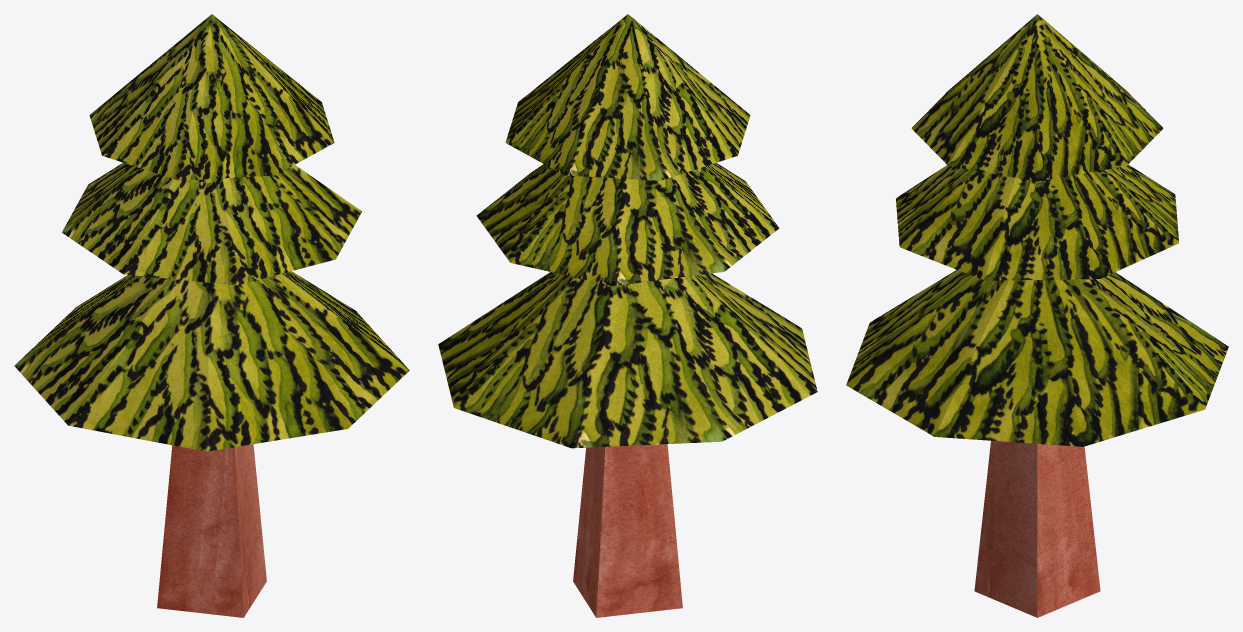
Rendered from tree2.glb.
3 views of the same model, side by side, from view 1: azimuth 30°, elevation 25°; view 2: azimuth 150°, elevation 25°; view 3: azimuth 270°, elevation 25° (orthographic).
Visible parts, largest first — view 1: Branches 3, Branches 2, Branches 1, Log; view 2: Branches 3, Branches 2, Branches 1, Log; view 3: Branches 3, Branches 2, Branches 1, Log.
Boxes of the visible parts, left/top/right/bottom form: Branches 3: left=14, top=271, right=409, bottom=451; Branches 2: left=62, top=162, right=361, bottom=285; Branches 1: left=89, top=14, right=334, bottom=180; Log: left=157, top=444, right=266, bottom=617; Branches 3: left=438, top=272, right=817, bottom=448; Branches 2: left=476, top=163, right=779, bottom=285; Branches 1: left=505, top=14, right=750, bottom=180; Log: left=573, top=444, right=682, bottom=617; Branches 3: left=846, top=270, right=1228, bottom=446; Branches 2: left=896, top=164, right=1178, bottom=280; Branches 1: left=911, top=14, right=1163, bottom=181; Log: left=974, top=440, right=1100, bottom=617.
Size of the model in its own units: 6.07 by 10.1 by 6.07.
Materials: 1 (1 with a texture image).
